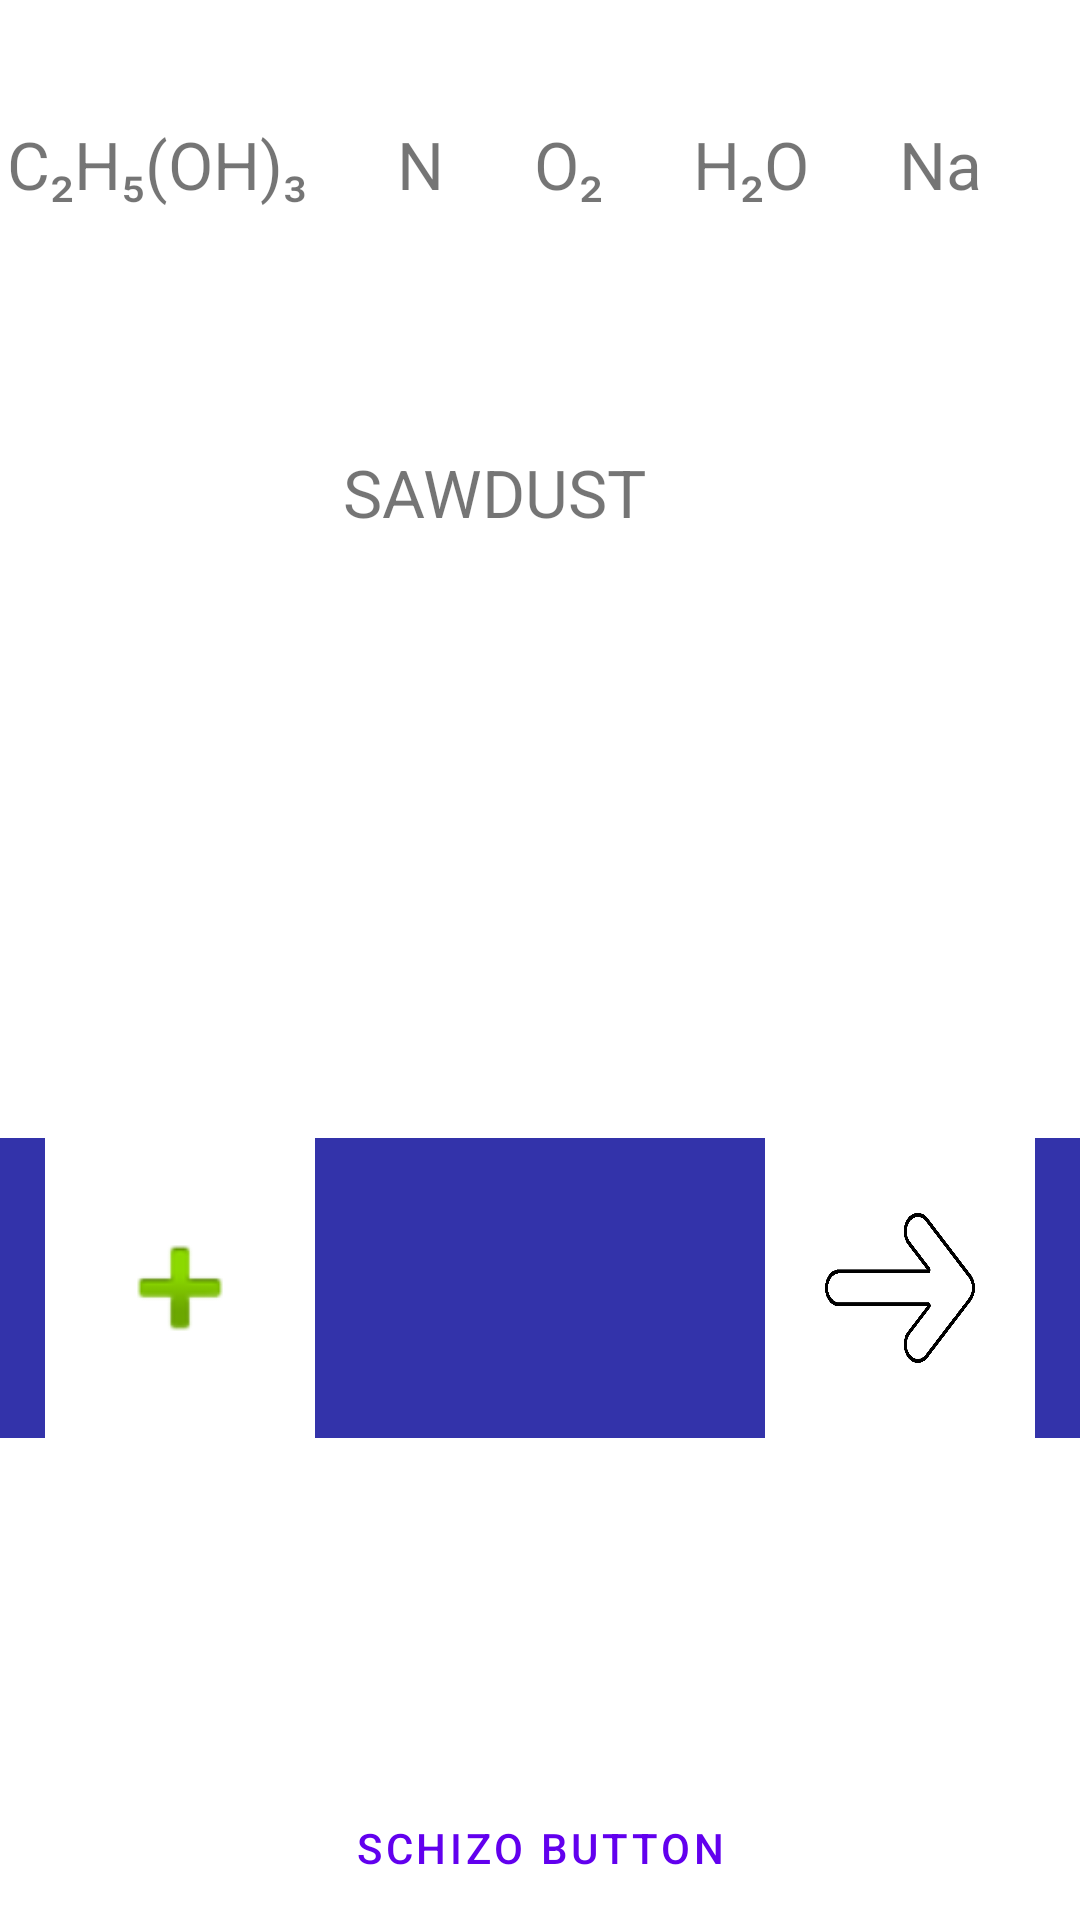

Named icons in this screenshot (1080×1920) and their bounding boxes, rect(x1, y1, x2, y2):
add: rect(137, 1245, 223, 1331)
arrow right: rect(825, 1213, 975, 1363)
